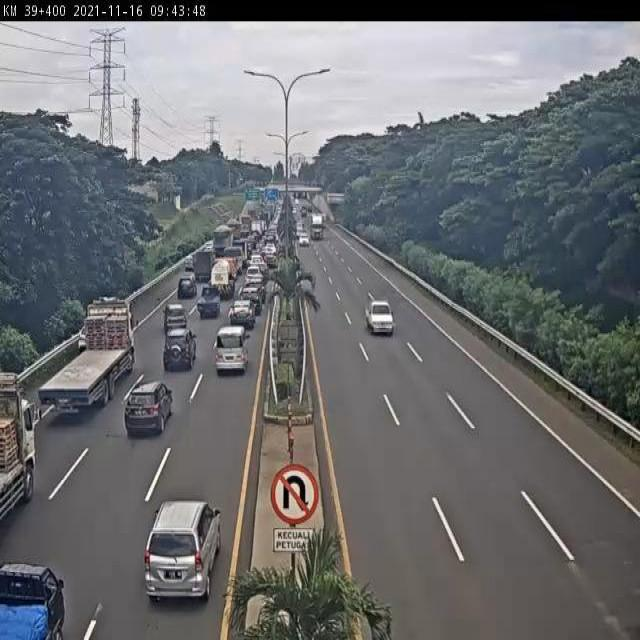car: (144, 498, 221, 606), (0, 560, 63, 640), (124, 382, 172, 438), (214, 327, 249, 377), (163, 328, 195, 371), (165, 310, 193, 346), (366, 299, 394, 332), (195, 288, 219, 321), (230, 300, 254, 333), (240, 287, 262, 313), (175, 272, 197, 297), (248, 277, 268, 299), (246, 265, 264, 284), (177, 260, 193, 276), (78, 327, 88, 349), (248, 254, 264, 266), (299, 235, 306, 244)
small truck: (225, 246, 244, 274)
truck-l-: (40, 300, 136, 408), (210, 226, 232, 262), (308, 209, 324, 243)
truck-m-: (187, 248, 214, 287), (211, 260, 234, 300)
